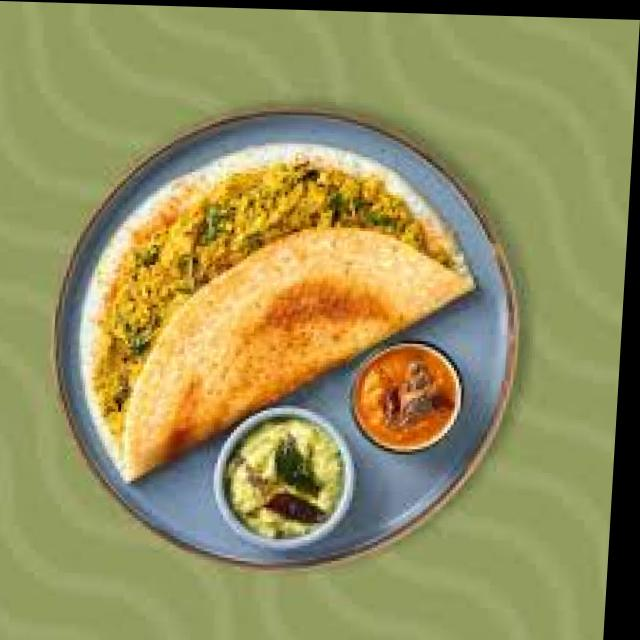DOSA: (91, 154, 468, 474)
SAMBAR: (354, 346, 456, 447)
WHITE CHUTNEY: (226, 418, 338, 533)
